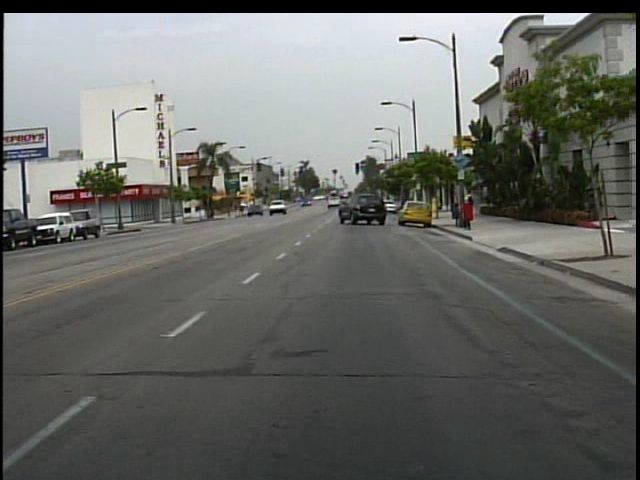person: (461, 187, 482, 220)
